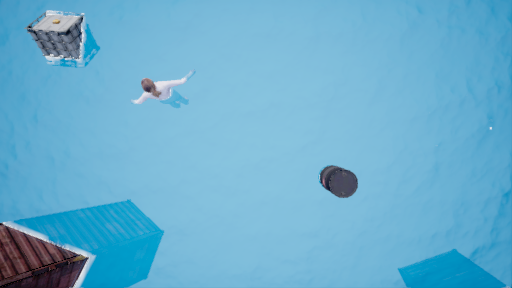person: (132, 71, 201, 114)
